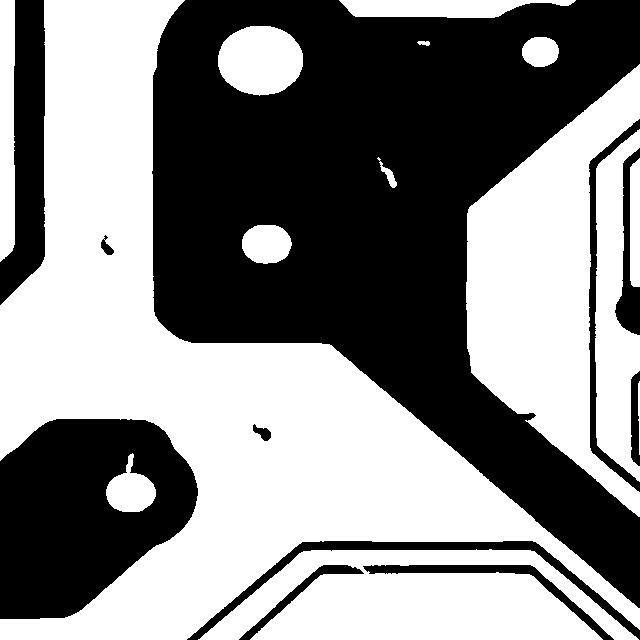copper: (243, 414, 280, 450), (91, 225, 123, 264)
mousebite: (116, 443, 143, 483)
open: (337, 553, 380, 591)
pin-hole: (367, 147, 406, 197), (407, 31, 439, 55)
spur: (505, 403, 545, 432)
